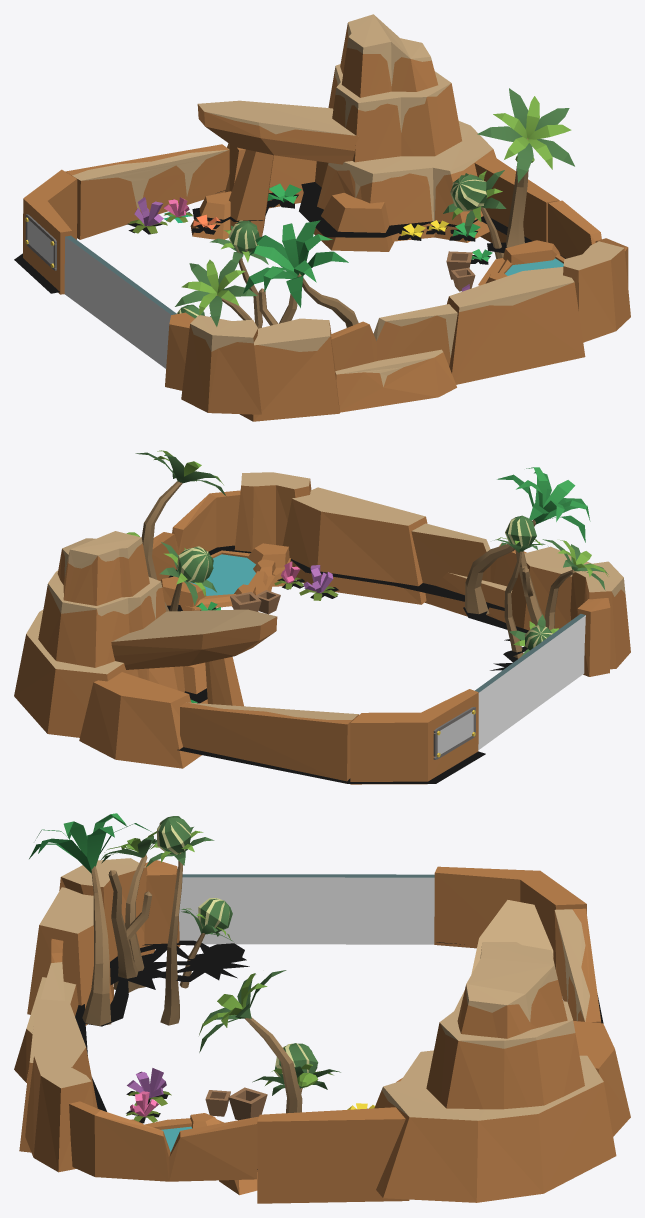
The model's file is xweilan_1003_5.FBX.
The picture shows the model from 3 angles, top to bottom: view 1: azimuth 30°, elevation 25°; view 2: azimuth 150°, elevation 25°; view 3: azimuth 270°, elevation 25°; orthographic projection. The views are drawn at different scales.
Parts seen in each view (by area): view 1: xweilan_1003_5; view 2: xweilan_1003_5; view 3: xweilan_1003_5.
Part boxes in pixels (bbox=[...]): xweilan_1003_5: bbox=[14, 14, 630, 421]; xweilan_1003_5: bbox=[14, 450, 630, 784]; xweilan_1003_5: bbox=[14, 813, 630, 1203].
Bounding box in the file's own units: 4672 × 1941 × 4728.
